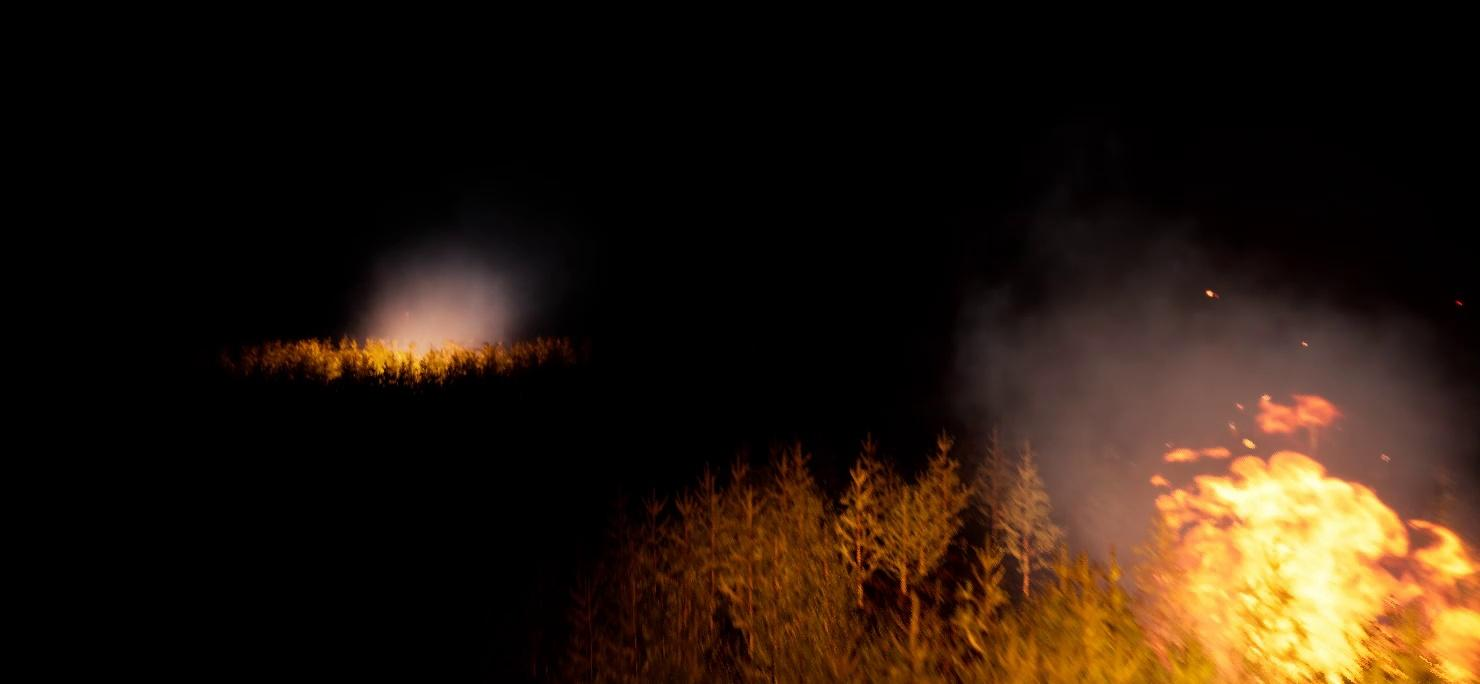fire: (1152, 393, 1479, 683)
smoke: (949, 209, 1474, 594), (350, 241, 552, 360)
